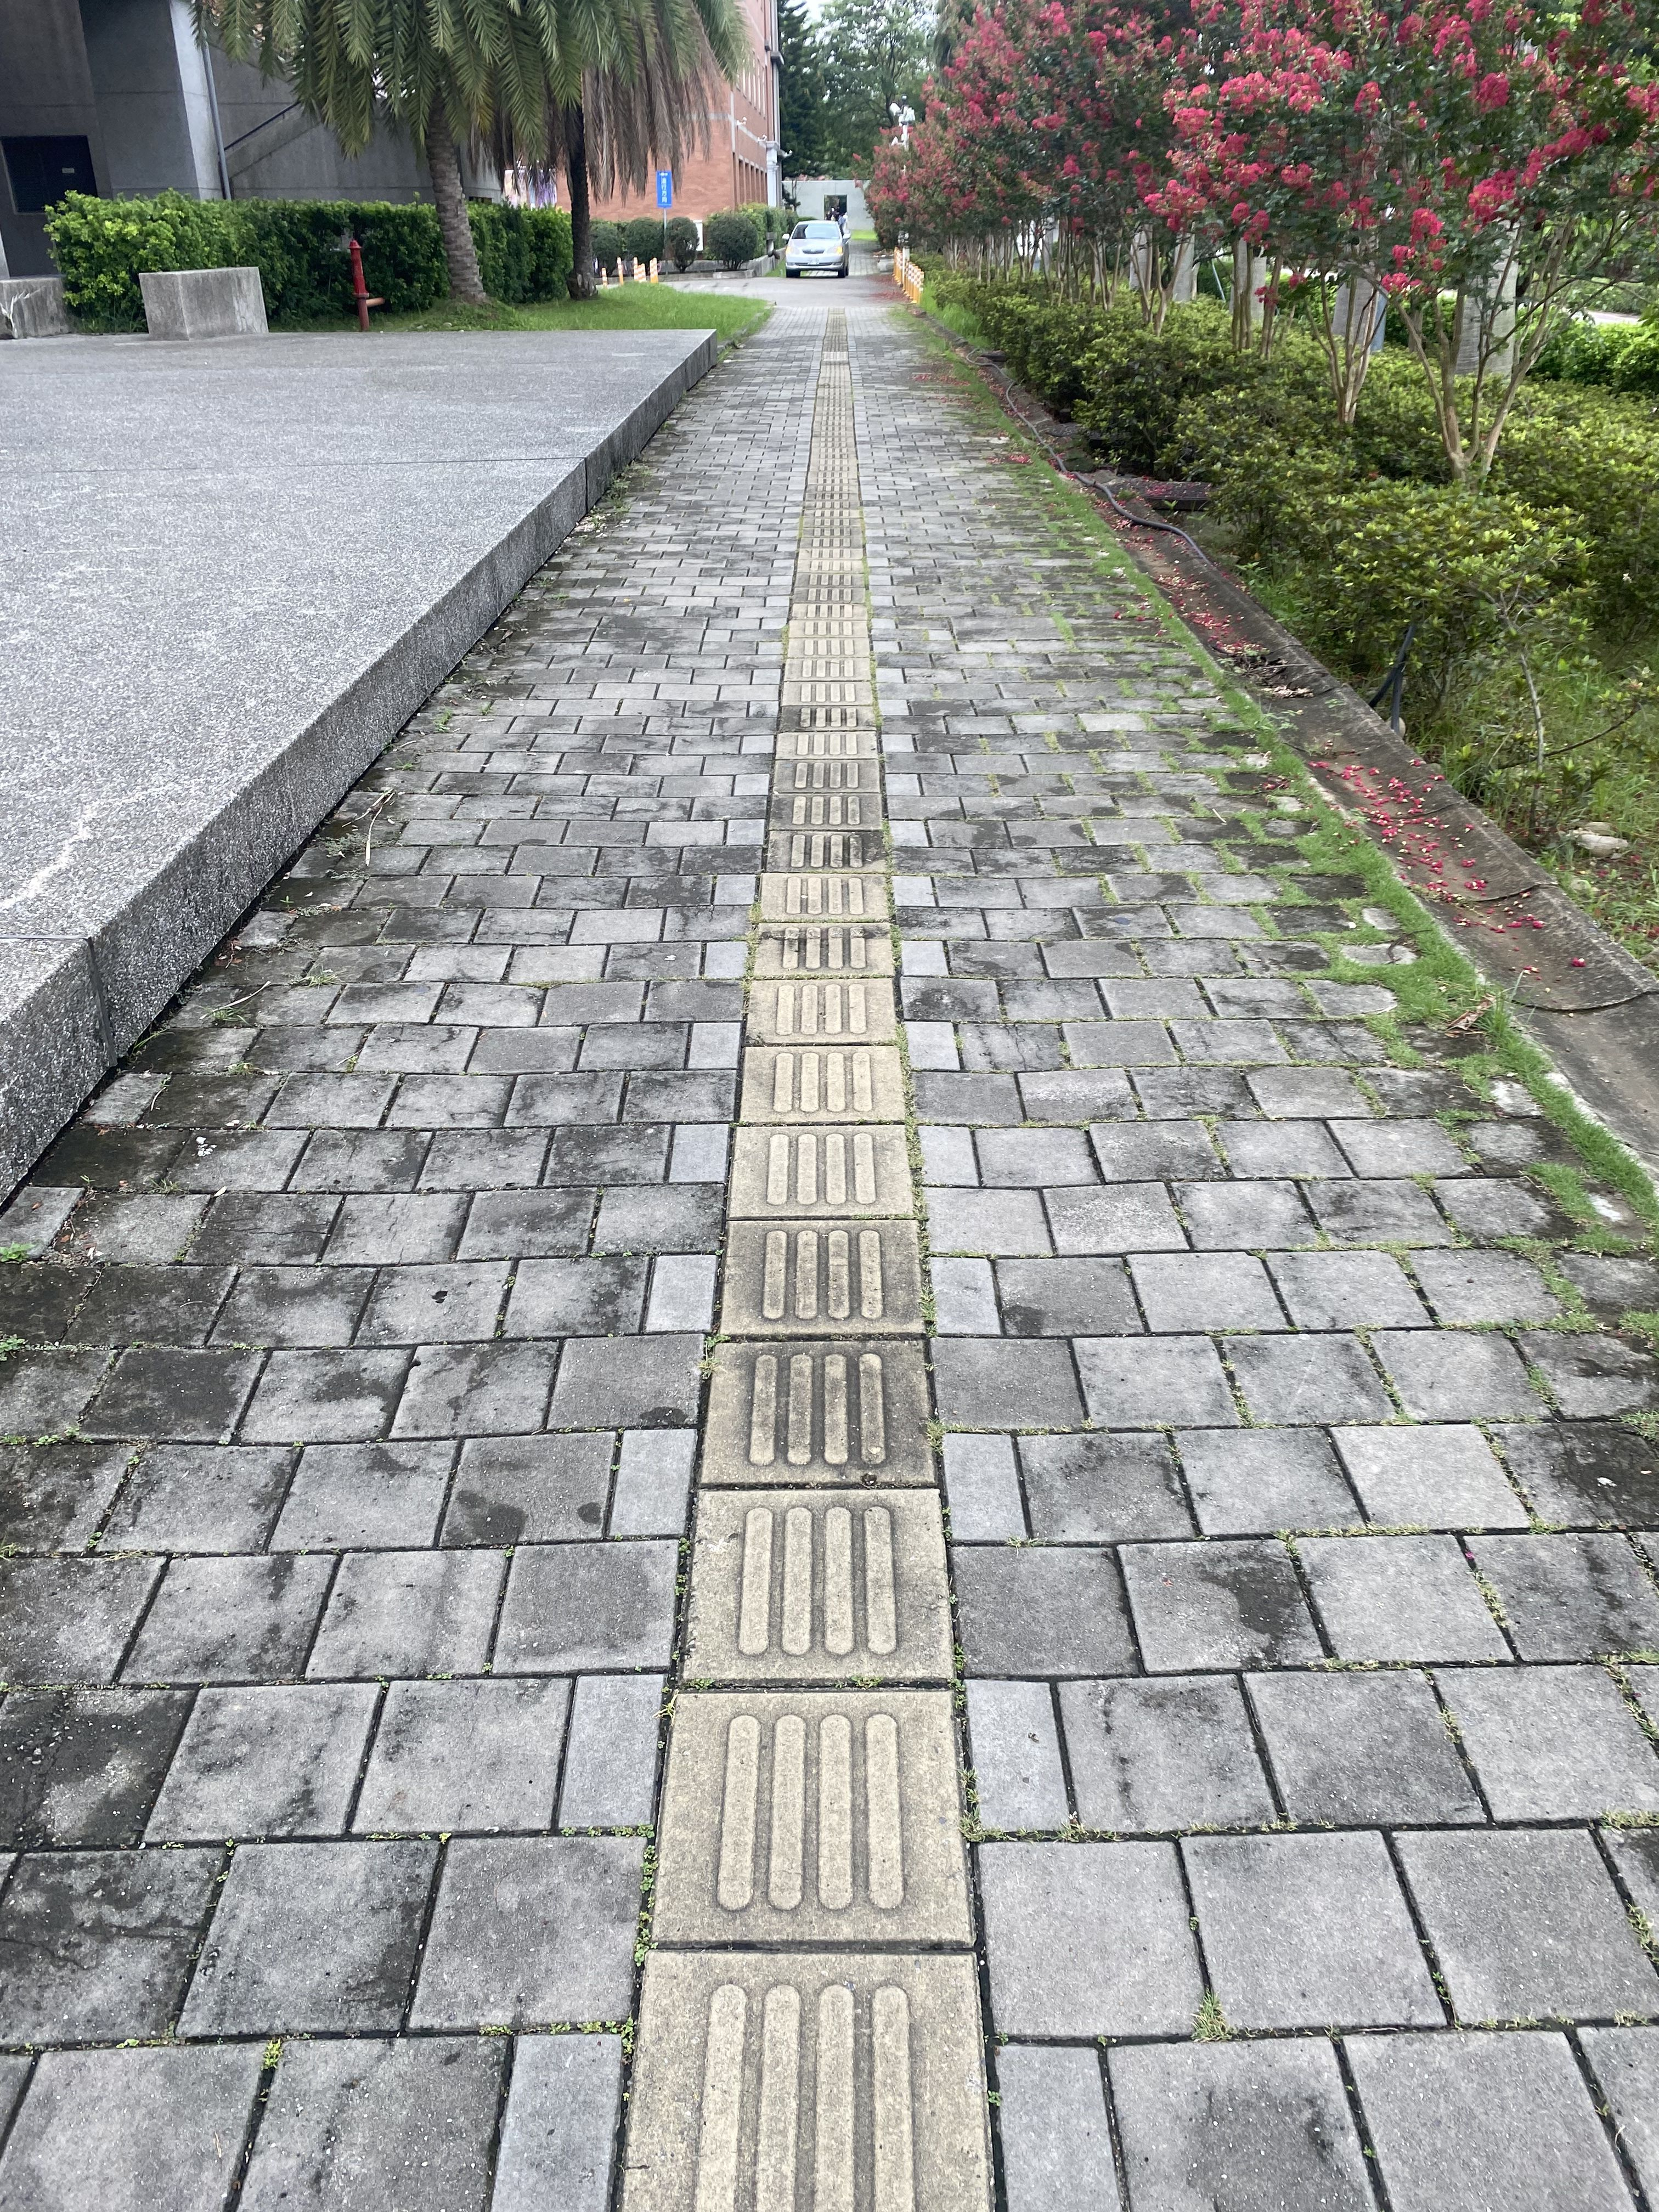0: (7, 590, 1659, 2212)
sidewalk: (502, 326, 1352, 1623)
